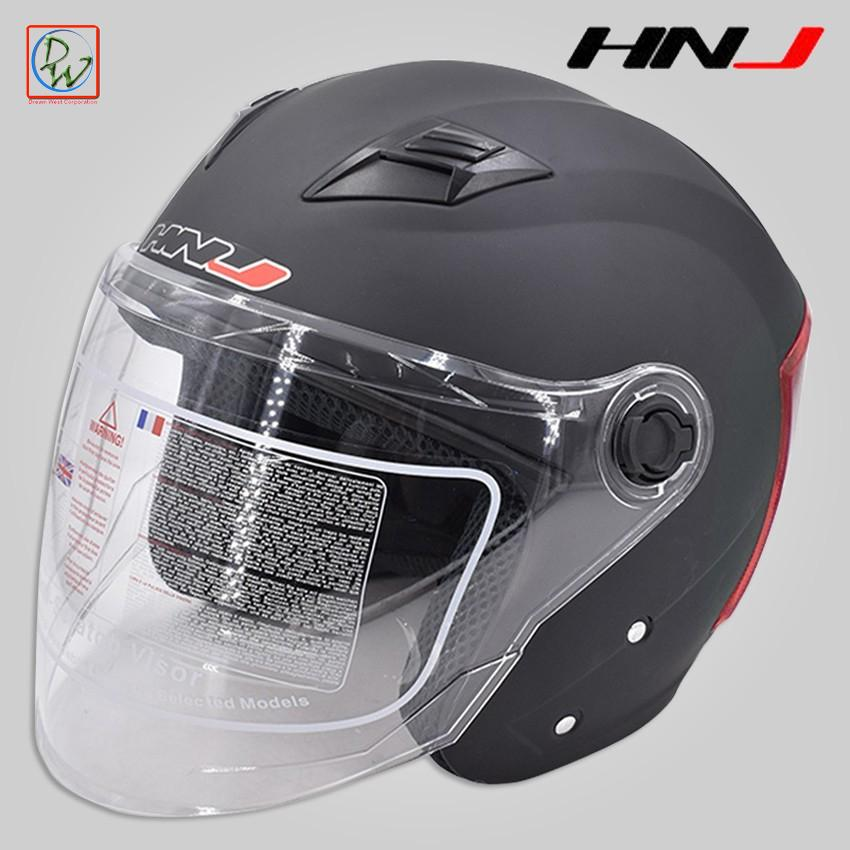with_helmet: (23, 56, 816, 824)
